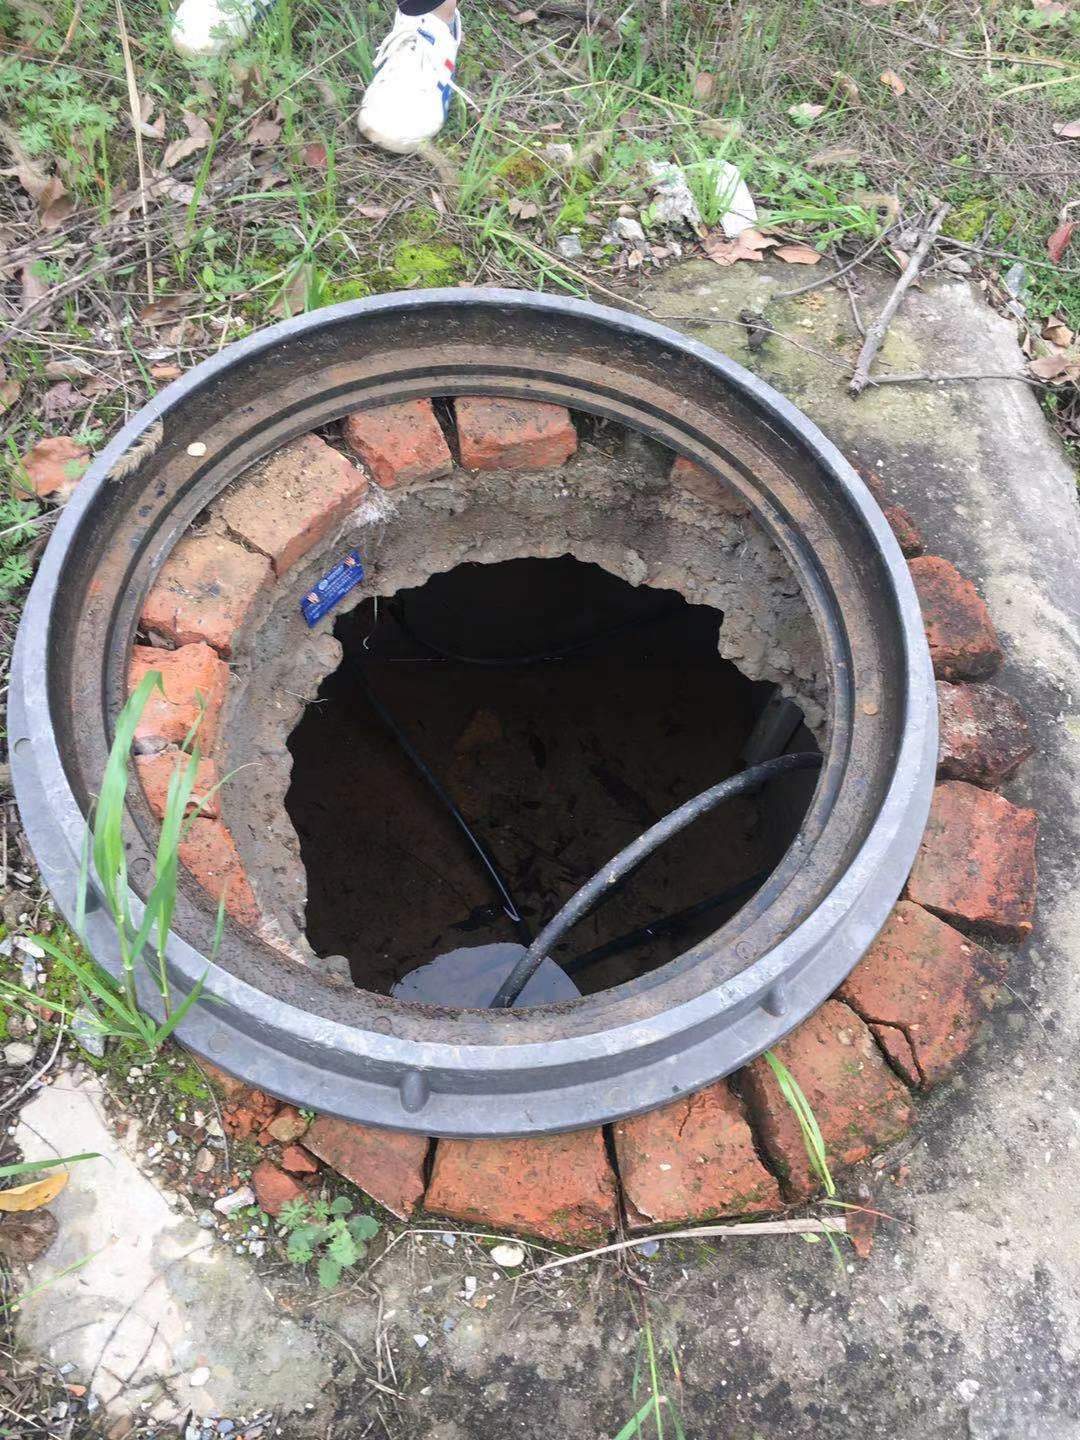lose: (1, 289, 940, 1141)
